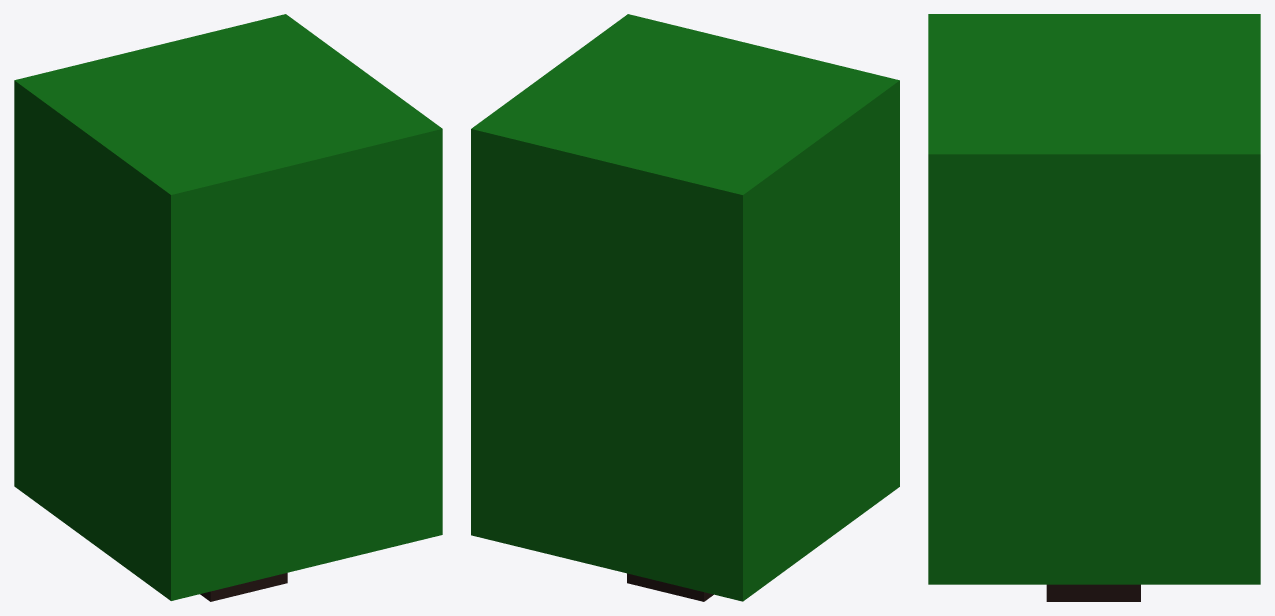
Rendered from Tree2.fbx.
3 renders of one model, left to right at view 1: azimuth 30°, elevation 25°; view 2: azimuth 150°, elevation 25°; view 3: azimuth 270°, elevation 25°, orthographic. The views are drawn at different scales.
Parts seen in each view (by area): view 1: Tree2; view 2: Tree2; view 3: Tree2.
Boxes of the visible parts, left/top/right/bottom form: Tree2: left=14, top=14, right=442, bottom=601; Tree2: left=471, top=14, right=899, bottom=601; Tree2: left=928, top=14, right=1260, bottom=601.
Size of the model in its own units: 9.91 by 16.42 by 9.91.
